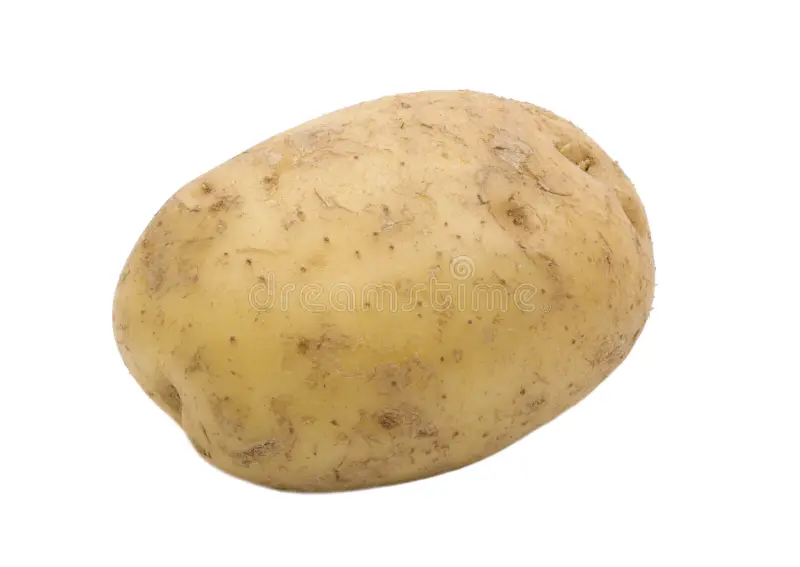potato: (87, 86, 665, 508)
